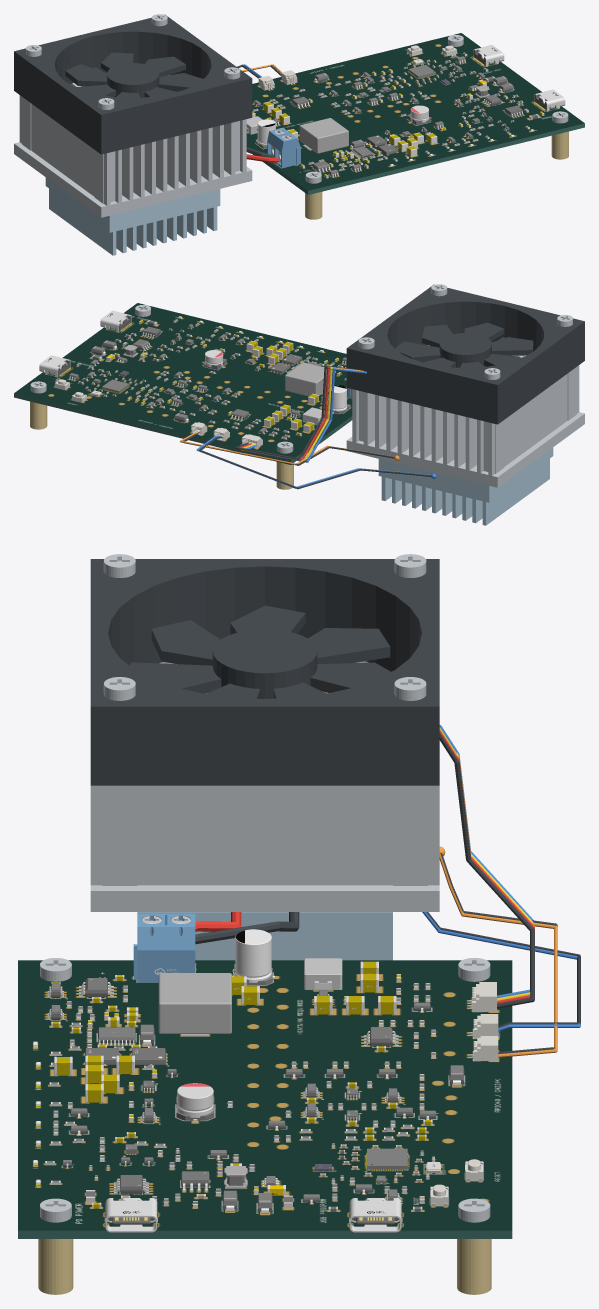
File: peltier-assembly.glb
3 renders of one model, top to bottom at view 1: azimuth 30°, elevation 25°; view 2: azimuth 150°, elevation 25°; view 3: azimuth 270°, elevation 25°, orthographic. The views are drawn at different scales.
Visible parts, largest first — view 1: Box0, CONCEPT_FAN_60x60x15_12V_MAX1A_INCLUDING_STARTUP_STALL, CONCEPT_HOT_FINNED_HEATSINK_60x60x24, CONCEPT_COLD_FINNED_HEATSINK_44x44x12, L2, CONCEPT_COLD_PLATE_44x44x4, J_TEC, J_USB_PD, J_USB_PROG, CONCEPT_PCB_STANDOFF_H2_OD6_ID3p2_H12, CONCEPT_PCB_STANDOFF_H1_OD6_ID3p2_H12, C29 (+1 smaller); view 2: Box0, CONCEPT_FAN_60x60x15_12V_MAX1A_INCLUDING_STARTUP_STALL, CONCEPT_HOT_FINNED_HEATSINK_60x60x24, CONCEPT_COLD_FINNED_HEATSINK_44x44x12, CONCEPT_COLD_PLATE_44x44x4, L2, CONCEPT_COLD_THERMISTOR_GND_LEAD_D0p65, CONCEPT_FAN_GND_LEAD_D0p9_MAX1A_INCLUDING_STARTUP_STALL, CONCEPT_FAN_FAN_PWM_LEAD_D0p9_MAX1A_INCLUDING_STARTUP_STALL, J_USB_PD, J_USB_PROG, CONCEPT_PCB_STANDOFF_H3_OD6_ID3p2_H12 (+8 smaller); view 3: Box0, CONCEPT_FAN_60x60x15_12V_MAX1A_INCLUDING_STARTUP_STALL, CONCEPT_HOT_FINNED_HEATSINK_60x60x24, L2, CONCEPT_COLD_FINNED_HEATSINK_44x44x12, J_TEC, CONCEPT_COLD_PLATE_44x44x4, C29, CONCEPT_PCB_STANDOFF_H1_OD6_ID3p2_H12, CONCEPT_PCB_STANDOFF_H3_OD6_ID3p2_H12, CONCEPT_FAN_GND_LEAD_D0p9_MAX1A_INCLUDING_STARTUP_STALL, J_USB_PD (+8 smaller).
Part boxes in pixels (x1,y1,x2,y2): Box0: [246, 33, 584, 194]; CONCEPT_FAN_60x60x15_12V_MAX1A_INCLUDING_STARTUP_STALL: [14, 14, 252, 154]; CONCEPT_HOT_FINNED_HEATSINK_60x60x24: [14, 75, 252, 217]; CONCEPT_COLD_FINNED_HEATSINK_44x44x12: [45, 178, 220, 255]; L2: [299, 118, 348, 153]; CONCEPT_COLD_PLATE_44x44x4: [45, 177, 220, 224]; J_TEC: [267, 127, 300, 167]; J_USB_PD: [534, 89, 565, 111]; J_USB_PROG: [473, 45, 504, 66]; CONCEPT_PCB_STANDOFF_H2_OD6_ID3p2_H12: [305, 192, 322, 219]; CONCEPT_PCB_STANDOFF_H1_OD6_ID3p2_H12: [551, 131, 568, 159]; C29: [255, 119, 275, 148]; Box0: [14, 303, 352, 464]; CONCEPT_FAN_60x60x15_12V_MAX1A_INCLUDING_STARTUP_STALL: [346, 284, 584, 424]; CONCEPT_HOT_FINNED_HEATSINK_60x60x24: [346, 345, 584, 487]; CONCEPT_COLD_FINNED_HEATSINK_44x44x12: [378, 448, 553, 525]; CONCEPT_COLD_PLATE_44x44x4: [378, 447, 553, 494]; L2: [285, 362, 332, 396]; CONCEPT_COLD_THERMISTOR_GND_LEAD_D0p65: [199, 436, 431, 489]; CONCEPT_FAN_GND_LEAD_D0p9_MAX1A_INCLUDING_STARTUP_STALL: [235, 366, 357, 459]; CONCEPT_FAN_FAN_PWM_LEAD_D0p9_MAX1A_INCLUDING_STARTUP_STALL: [244, 368, 366, 462]; J_USB_PD: [100, 310, 131, 332]; J_USB_PROG: [39, 355, 70, 377]; CONCEPT_PCB_STANDOFF_H3_OD6_ID3p2_H12: [30, 401, 47, 429]; Box0: [18, 960, 512, 1238]; CONCEPT_FAN_60x60x15_12V_MAX1A_INCLUDING_STARTUP_STALL: [90, 559, 439, 785]; CONCEPT_HOT_FINNED_HEATSINK_60x60x24: [90, 661, 439, 911]; L2: [158, 973, 231, 1036]; CONCEPT_COLD_FINNED_HEATSINK_44x44x12: [195, 933, 392, 960]; J_TEC: [133, 913, 195, 982]; CONCEPT_COLD_PLATE_44x44x4: [137, 912, 392, 933]; C29: [232, 929, 274, 985]; CONCEPT_PCB_STANDOFF_H1_OD6_ID3p2_H12: [38, 1239, 73, 1294]; CONCEPT_PCB_STANDOFF_H3_OD6_ID3p2_H12: [457, 1239, 491, 1294]; CONCEPT_FAN_GND_LEAD_D0p9_MAX1A_INCLUDING_STARTUP_STALL: [439, 733, 534, 1008]; J_USB_PD: [105, 1198, 157, 1232].
Size of the model in its own units: 186 by 60.8 by 96.83.
52 materials, 2 textured.
